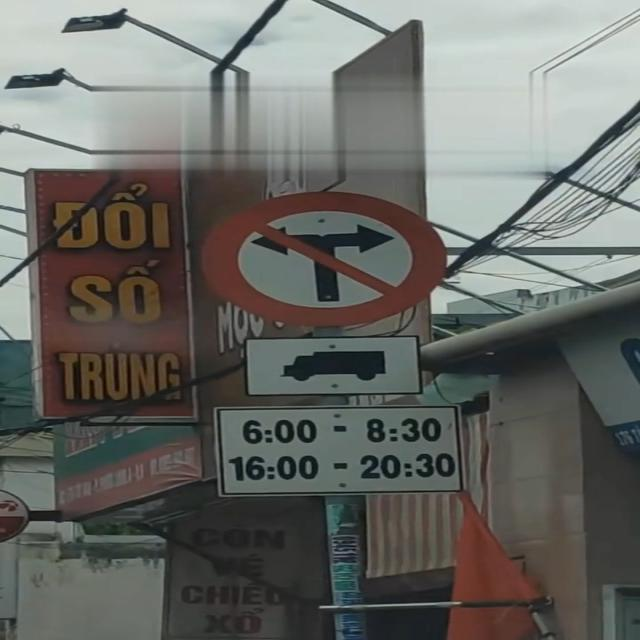137-cam-re-trai-va-re-phai: (211, 186, 444, 326)
